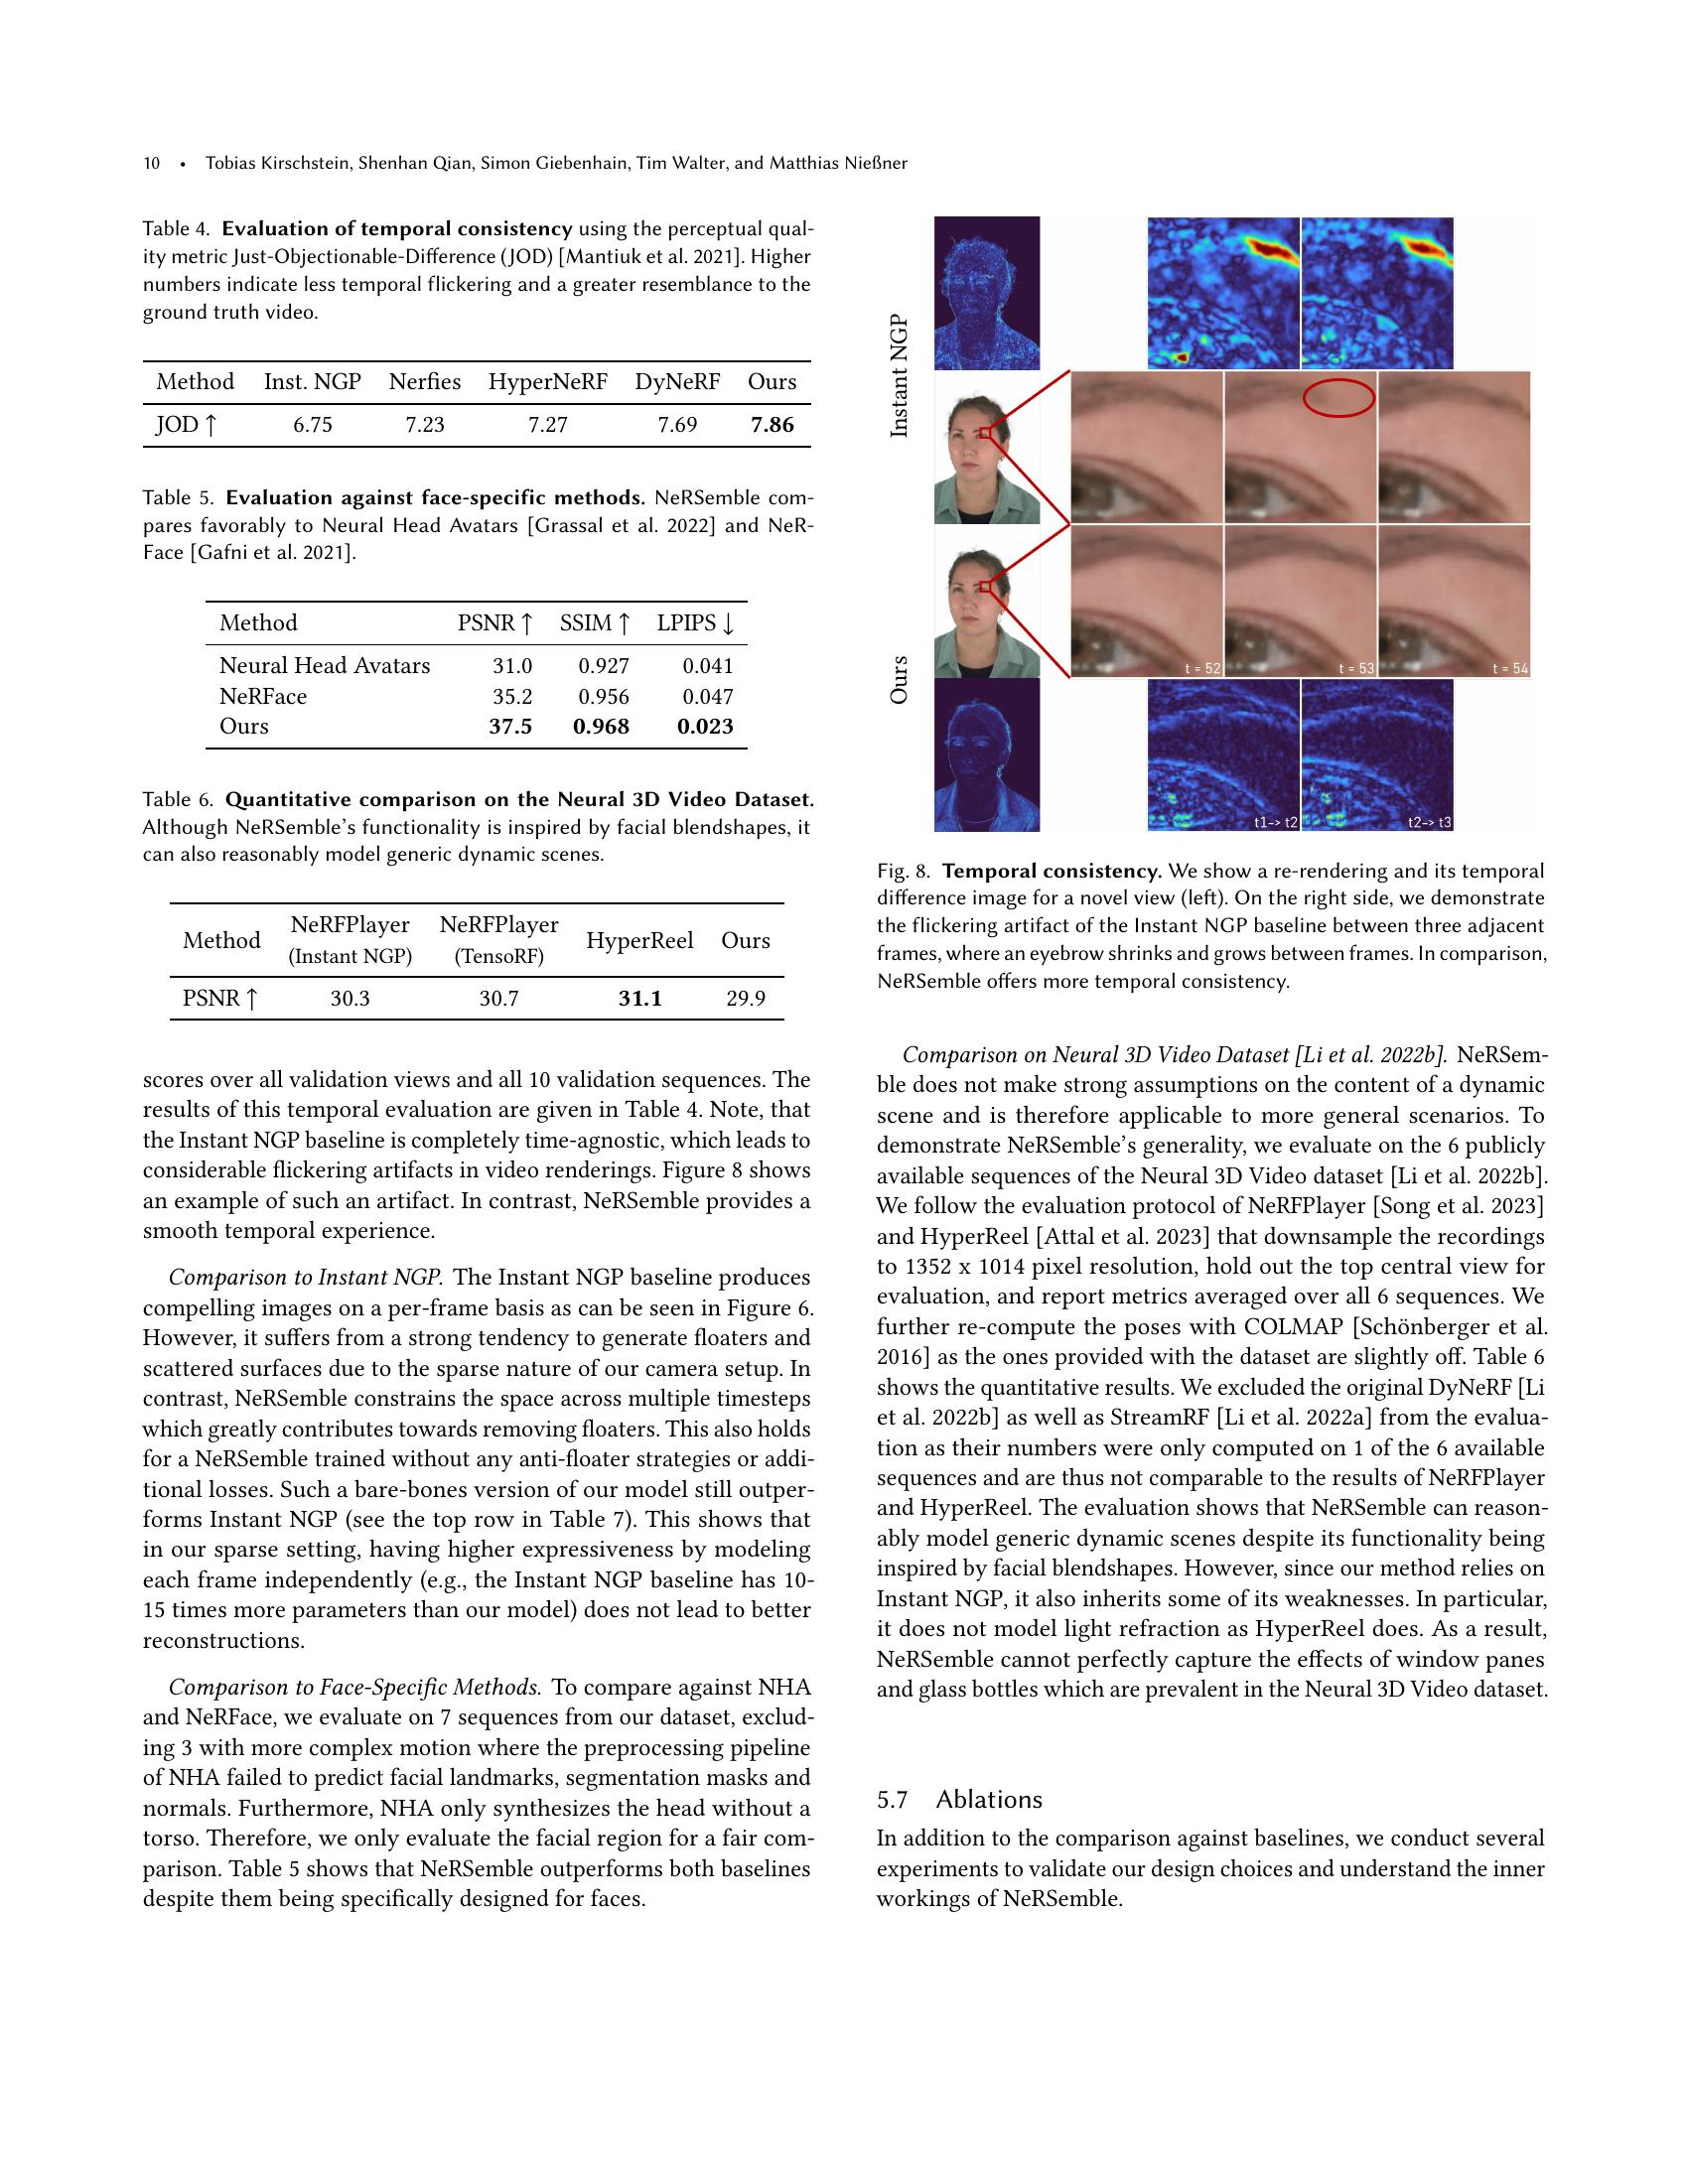figure: (871, 209, 1555, 1002)
table: (133, 477, 821, 759), (133, 206, 821, 456), (135, 782, 817, 1028)
text: (865, 1037, 1555, 1709), (133, 1060, 821, 1659), (133, 1670, 821, 1922), (865, 1778, 1555, 1922)
